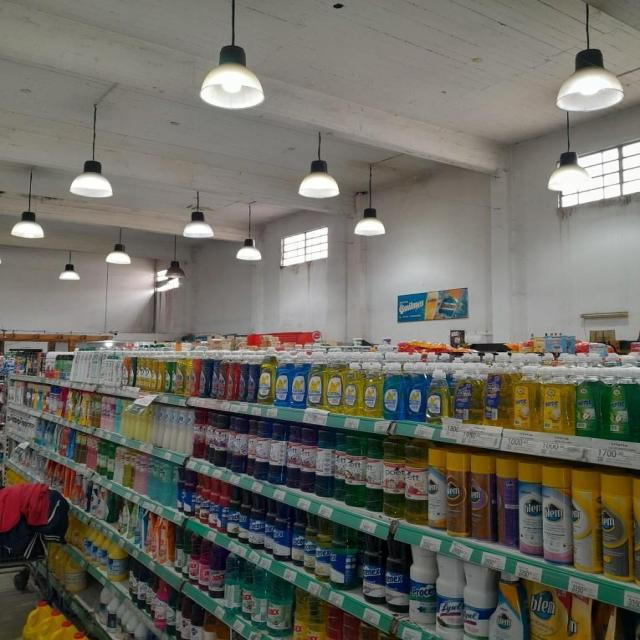ala_conc_amarillo: (173, 356, 185, 395)
ala_conc_azul: (199, 356, 211, 398)
ala_conc_rojo: (213, 357, 225, 400), (226, 356, 237, 401)
ala_crem_blanco: (176, 406, 185, 454), (163, 404, 172, 450), (183, 407, 191, 454), (171, 406, 179, 453), (153, 402, 161, 447), (141, 399, 148, 444)
cif_conc_bot_amarilla: (136, 353, 148, 391)
magistral_con_amarillo: (426, 370, 449, 424), (362, 365, 382, 418), (343, 363, 362, 416), (325, 361, 343, 413), (308, 360, 324, 410), (258, 356, 274, 404)
magistral_con_azul: (382, 366, 404, 420), (406, 372, 425, 422), (275, 357, 291, 408), (291, 358, 307, 408)
